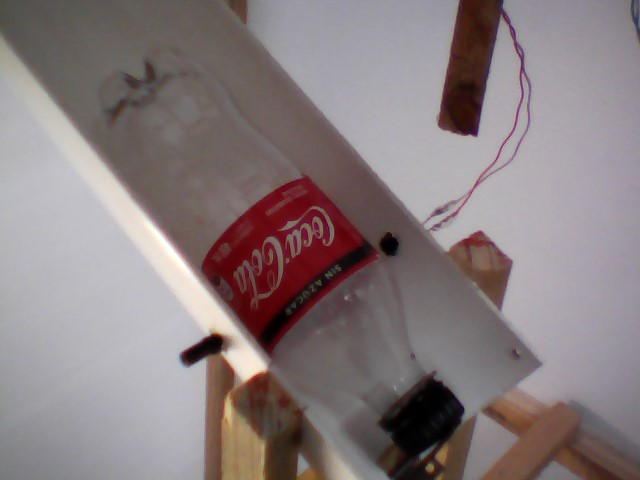plastico: (81, 42, 476, 464)
